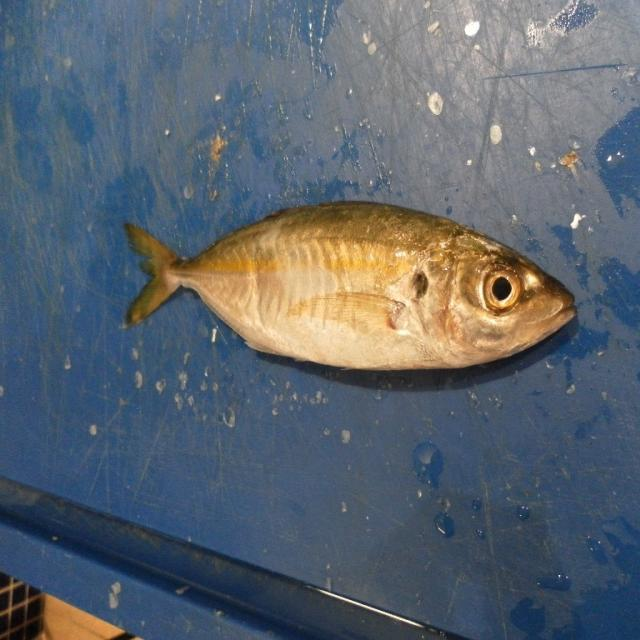Hourse-Mackerel-istavrit-: (122, 201, 578, 375)
